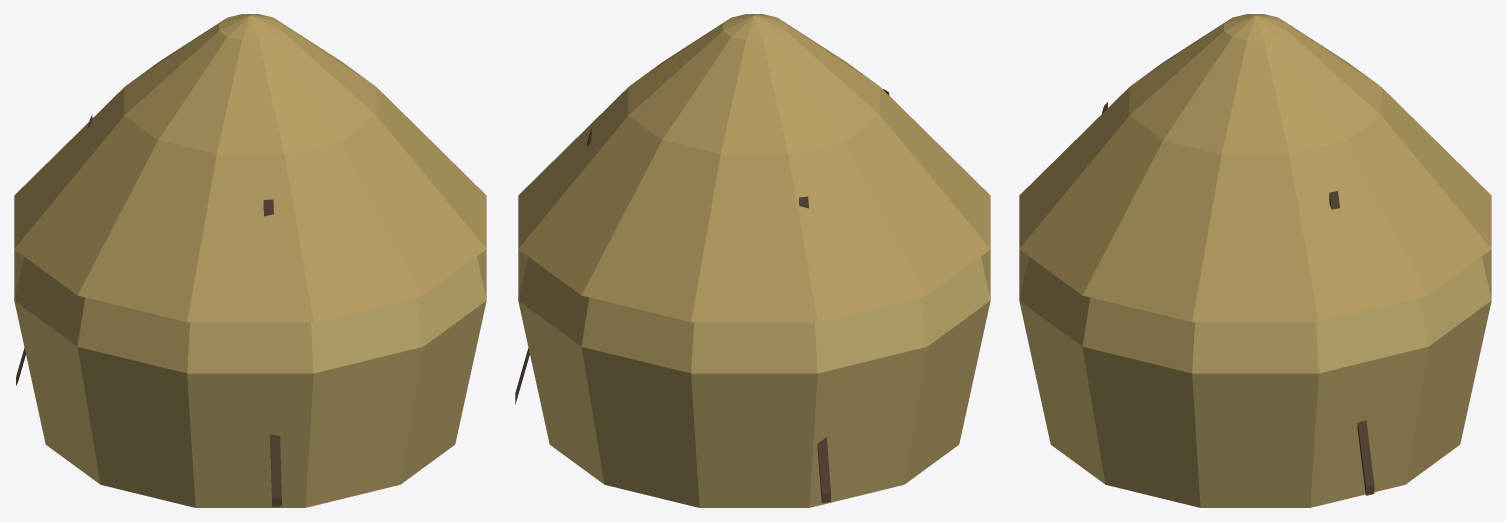
The model's file is land_haystack.glb.
3 views of the same model, side by side, from view 1: azimuth 30°, elevation 25°; view 2: azimuth 150°, elevation 25°; view 3: azimuth 270°, elevation 25° (orthographic).
Visible parts, largest first — view 1: land_haystack; view 2: land_haystack; view 3: land_haystack.
Boxes of the visible parts, x1,y1,x2,y2 form: land_haystack: [14, 14, 486, 507]; land_haystack: [515, 14, 990, 507]; land_haystack: [1019, 14, 1491, 507].
Size of the model in its own units: 4.35 by 4.12 by 4.35.
